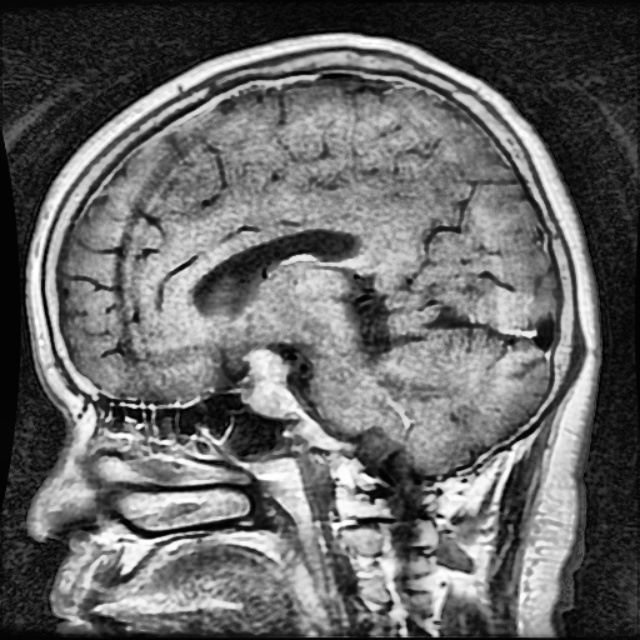Pituitary: (245, 350, 297, 415)
